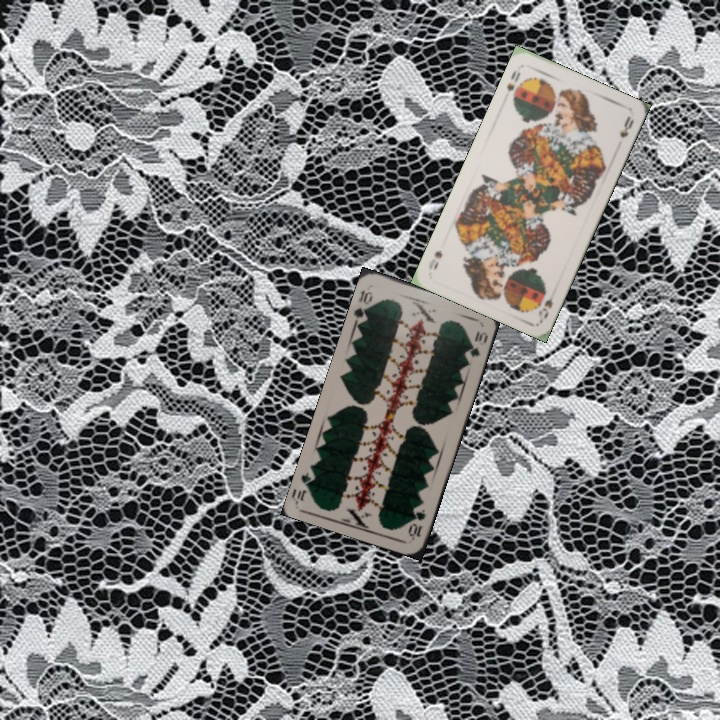G10: (350, 286, 375, 325), (405, 505, 428, 541)
SO: (502, 66, 523, 94), (534, 294, 555, 321)
